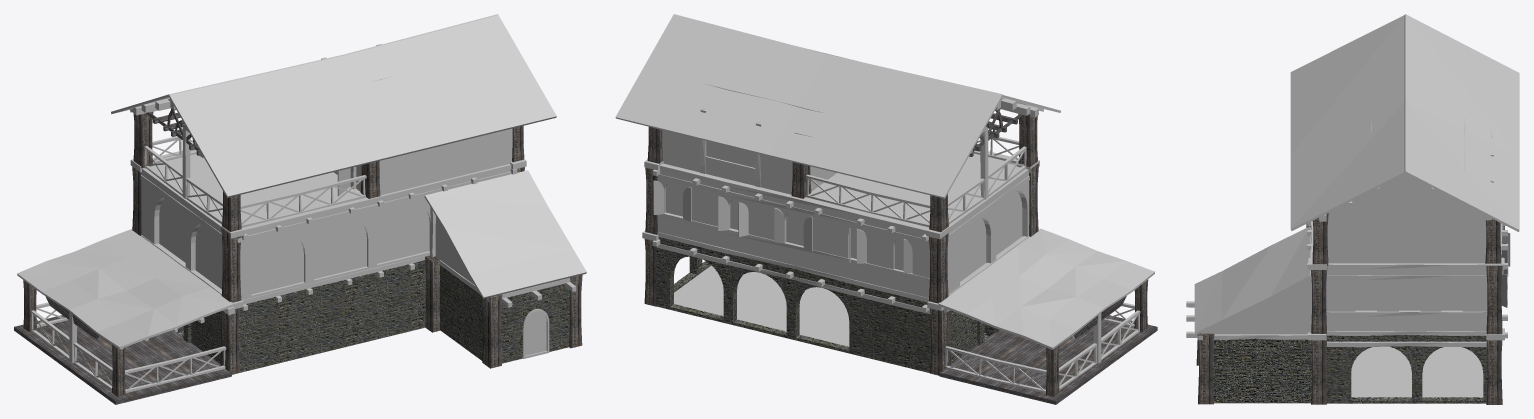
Rendered from tavern_main.dae.
The picture shows the model from 3 angles, left to right: view 1: azimuth 30°, elevation 25°; view 2: azimuth 150°, elevation 25°; view 3: azimuth 270°, elevation 25°; orthographic projection. The views are drawn at different scales.
Parts seen in each view (by area): view 1: house; view 2: house; view 3: house.
Part boxes in pixels (bbox=[...]): house: bbox=[14, 14, 586, 404]; house: bbox=[615, 14, 1157, 404]; house: bbox=[1186, 14, 1519, 404].
Bounding box in the file's own units: 33.91 × 18.75 × 23.09.
